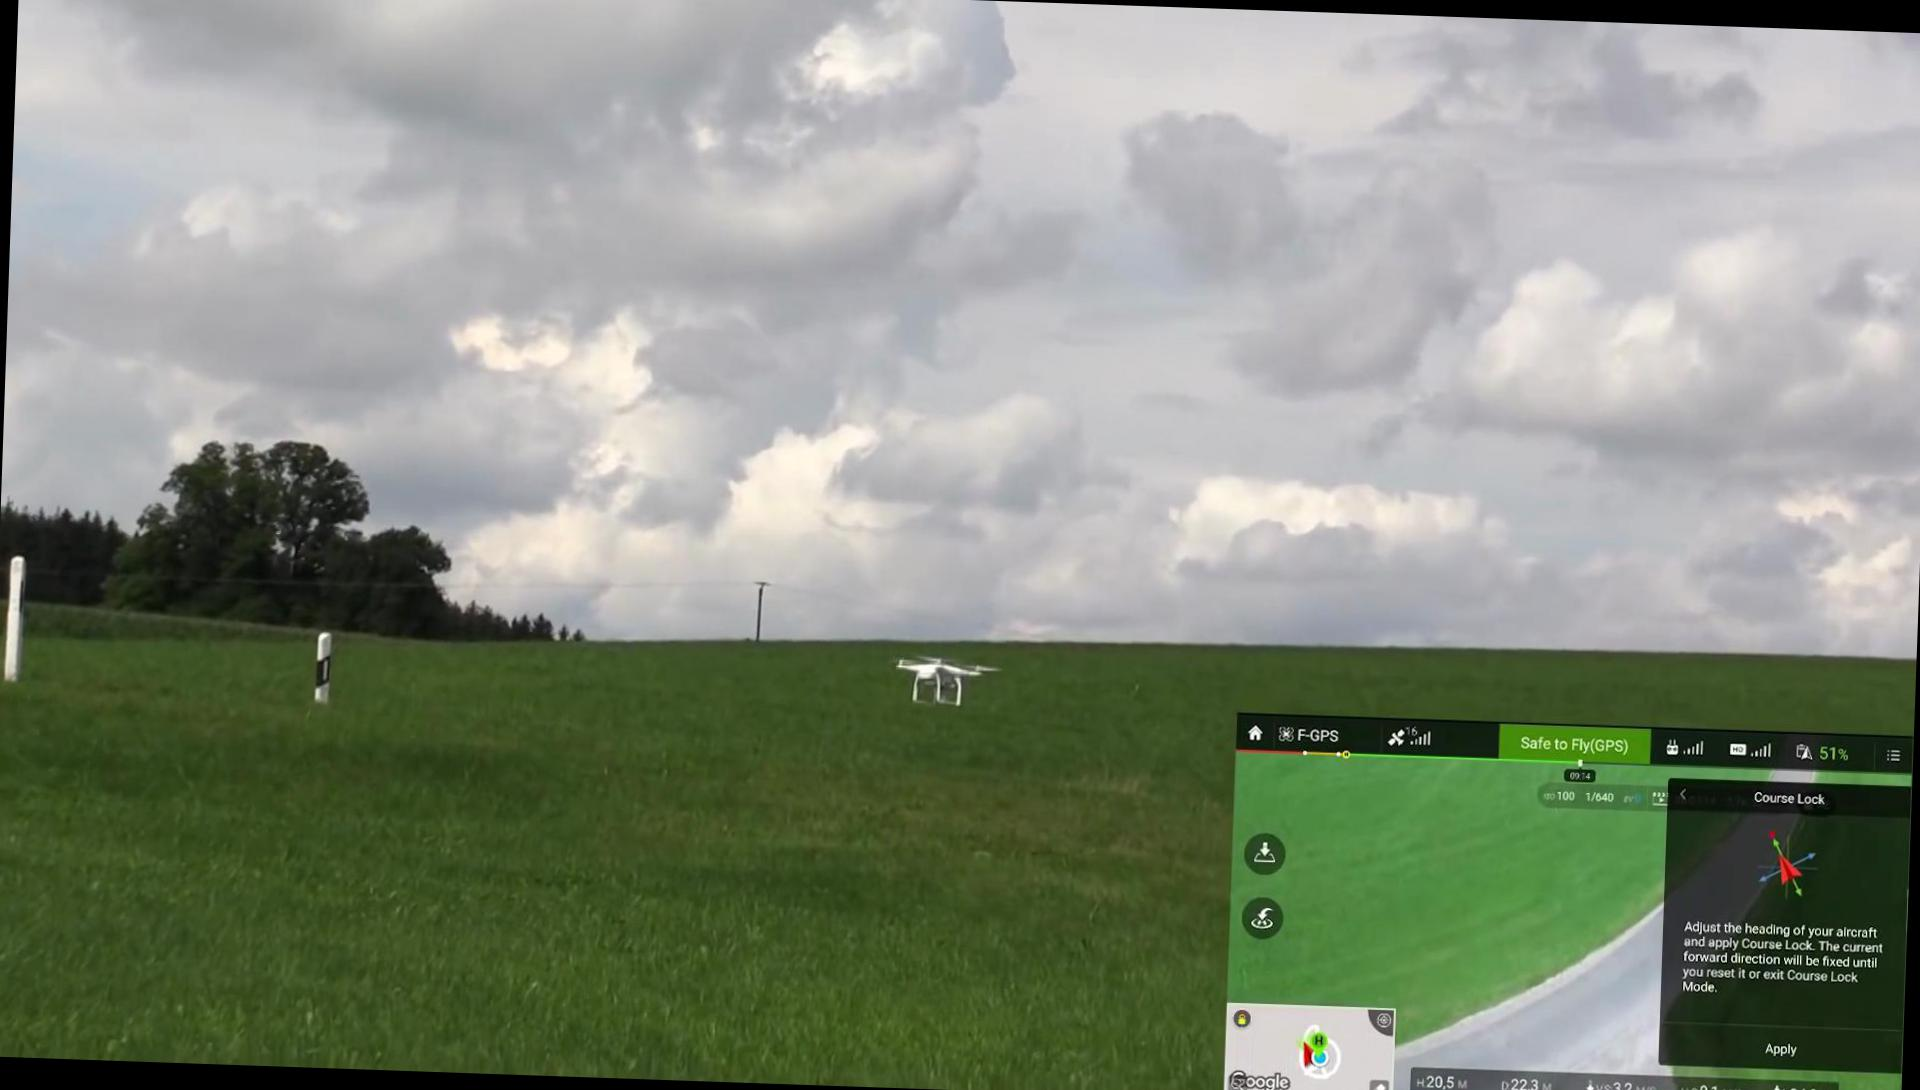drone: (890, 647, 997, 710)
